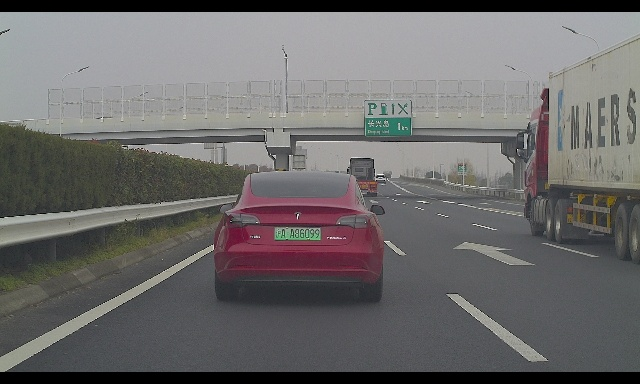car: (213, 171, 385, 302), (374, 174, 386, 184)
truck: (515, 32, 640, 264), (347, 158, 378, 197), (383, 170, 392, 178)
